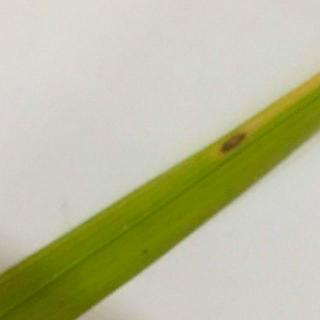Blast: (224, 129, 251, 175)
